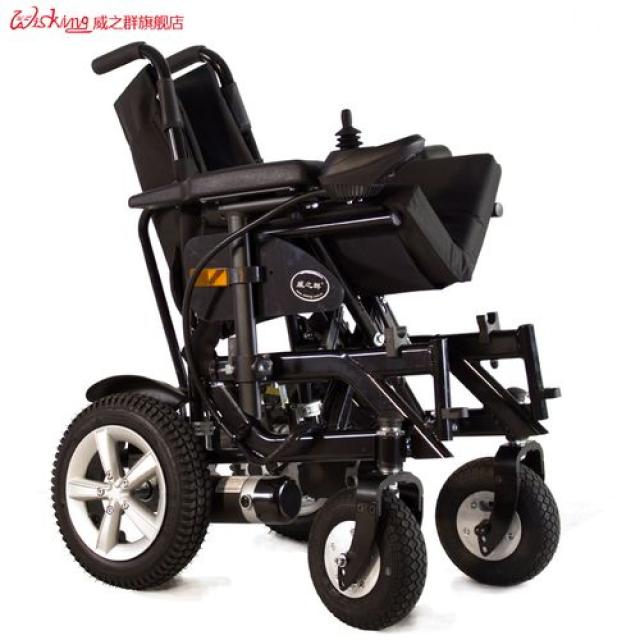wheelchairs: (32, 38, 583, 632)
